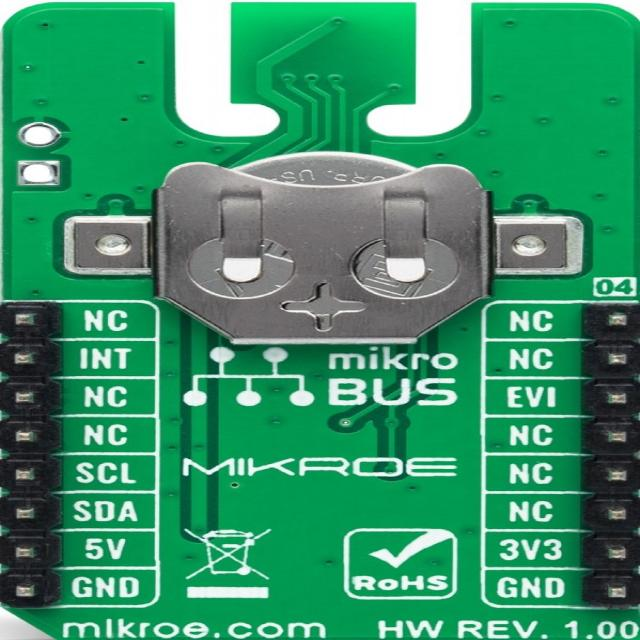battery: (94, 148, 561, 364)
